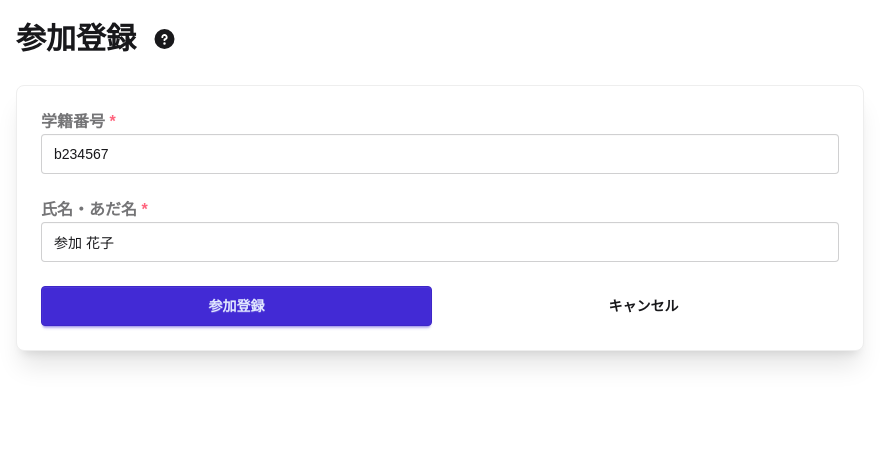
Test: AbsenceFormContent › 希望者参加では出席として登録し、欠席用入力を表示しない
Expected: the heading "参加登録" is shown, [16,16,136,61]
Click the button "参加登録" at point(236, 306), box [41,286,432,326]
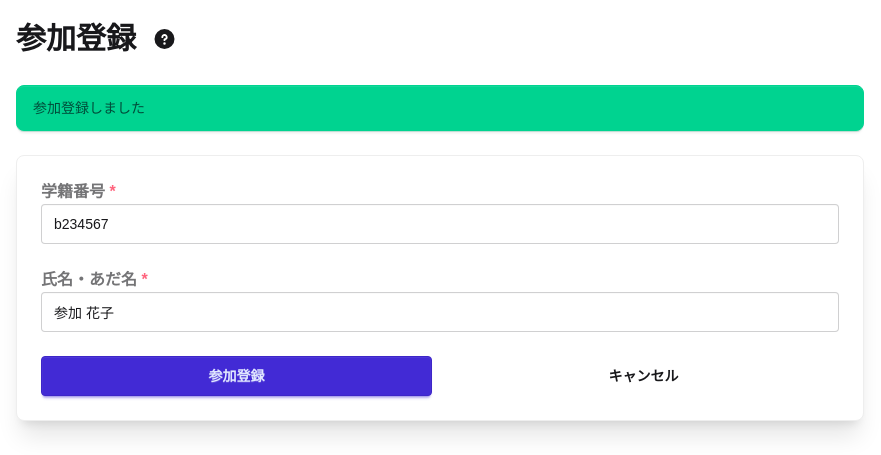
Expected: the text "参加登録しました" is shown, [33,98,145,118]
